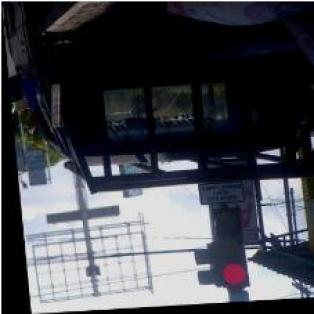Semaforo Rojo: (209, 210, 246, 295)
